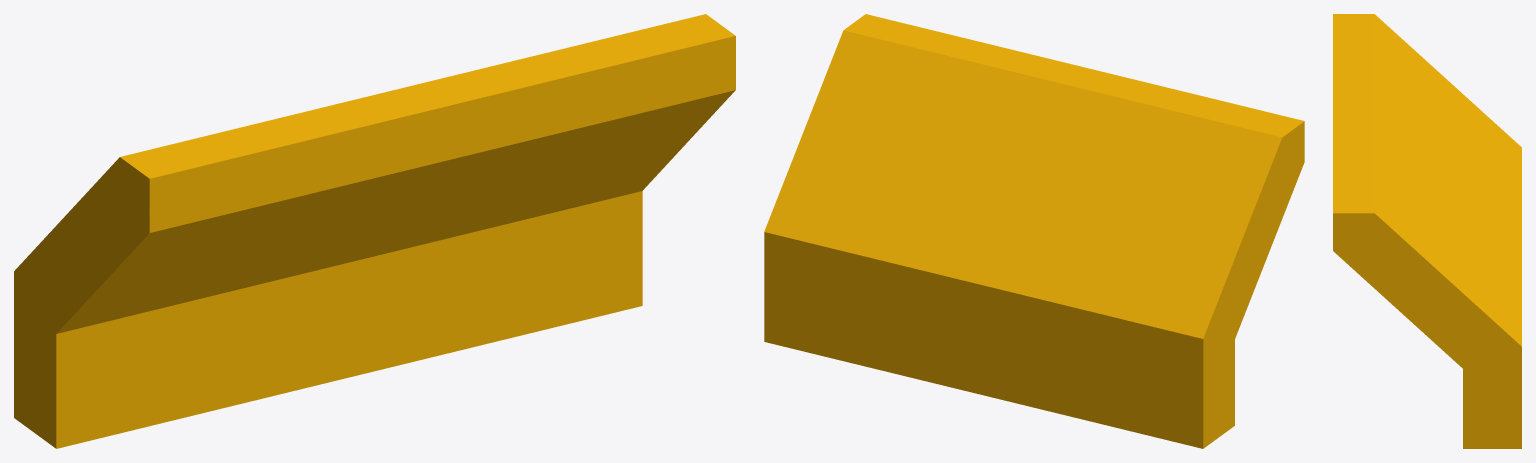
The model's file is fender_corner_interface_center_1x3.dae.
The picture shows the model from 3 angles, left to right: view 1: azimuth 30°, elevation 25°; view 2: azimuth 150°, elevation 25°; view 3: azimuth 270°, elevation 25°; orthographic projection. The views are drawn at different scales.
Visible parts, largest first — view 1: Cube; view 2: Cube; view 3: Cube.
Part boxes in pixels (<box>): Cube: <box>14,14,735,448</box>; Cube: <box>764,14,1304,448</box>; Cube: <box>1333,14,1521,448</box>.
Size of the model in its own units: 0.5 by 0.2004 by 0.2759.
